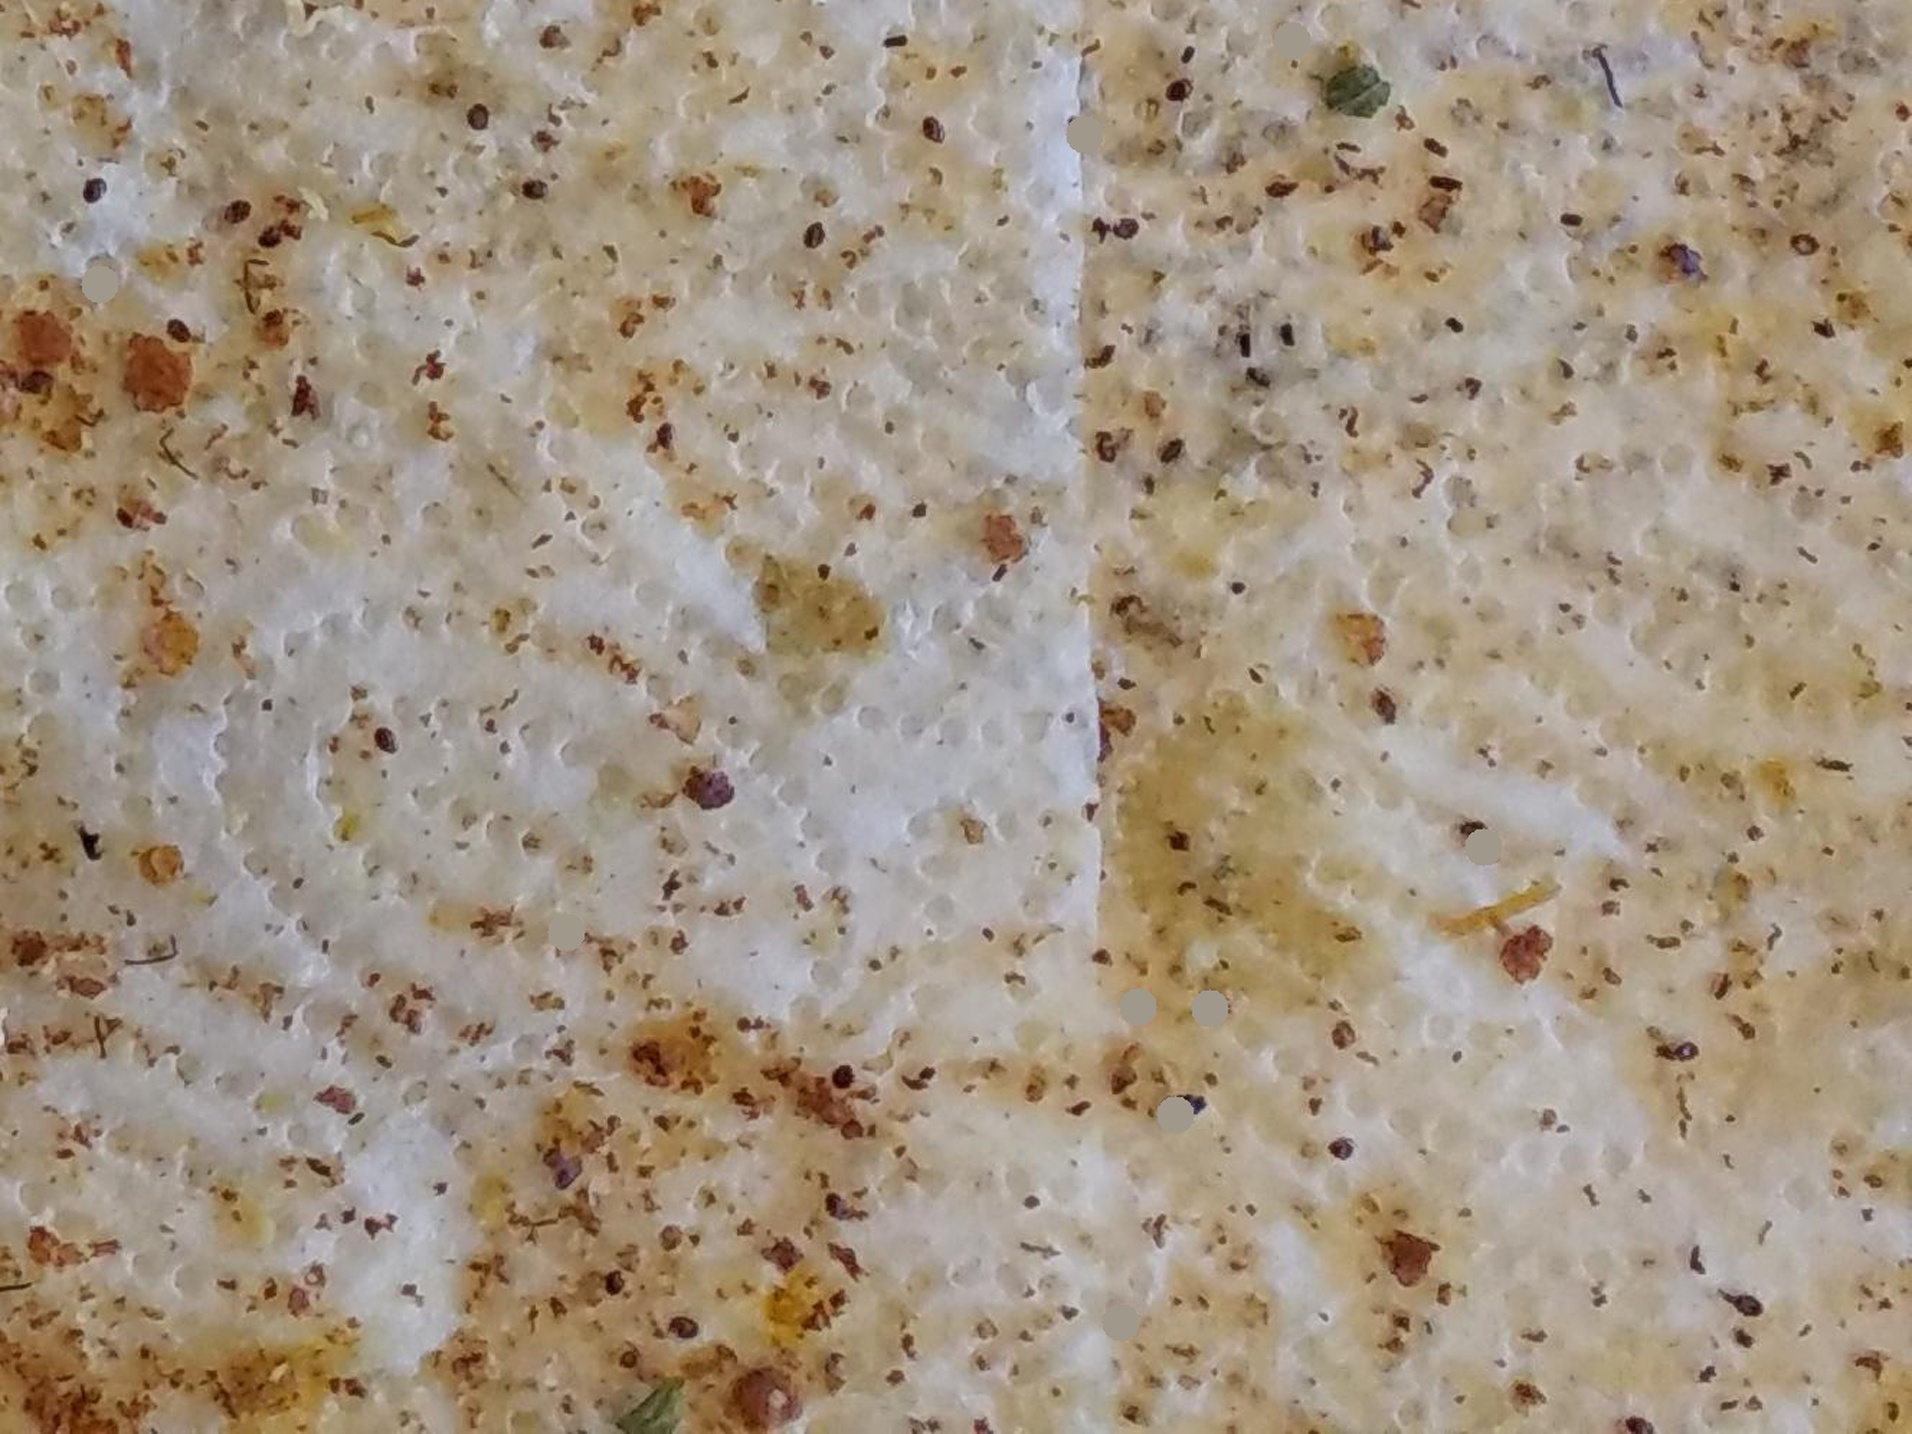Varroa: (814, 1181, 858, 1225), (644, 410, 687, 453), (796, 217, 831, 258), (1320, 1127, 1356, 1164), (518, 163, 554, 197), (464, 99, 497, 137), (361, 715, 396, 750), (1104, 206, 1140, 240), (1733, 1286, 1769, 1320), (254, 218, 288, 255), (915, 111, 948, 146), (223, 202, 257, 235), (1260, 172, 1295, 205), (77, 175, 108, 211), (821, 1063, 854, 1097), (166, 316, 199, 349), (1790, 230, 1823, 264), (1161, 72, 1192, 105), (596, 1268, 629, 1300), (673, 1307, 703, 1341)
